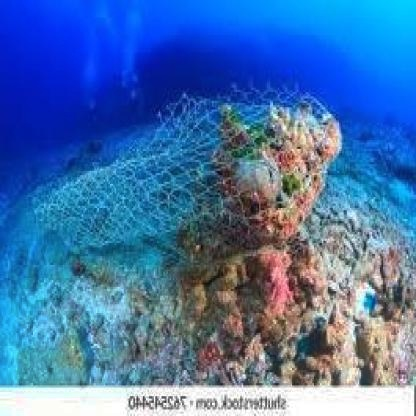net: (32, 92, 310, 258)
